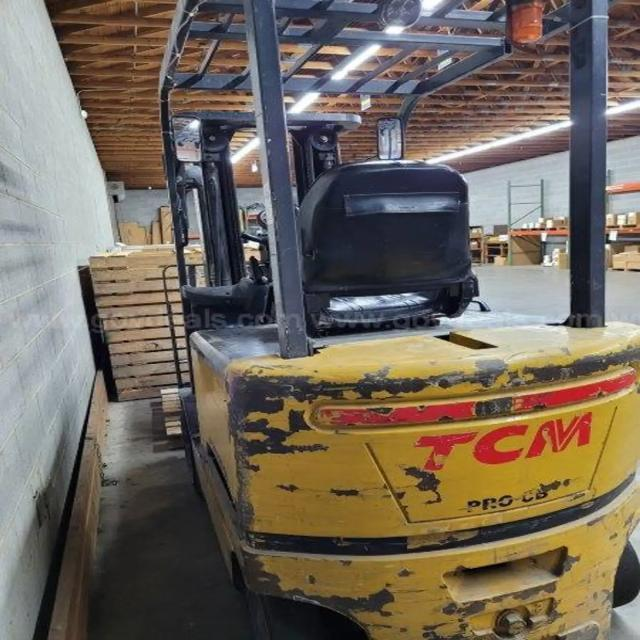forklift: (140, 16, 623, 638)
